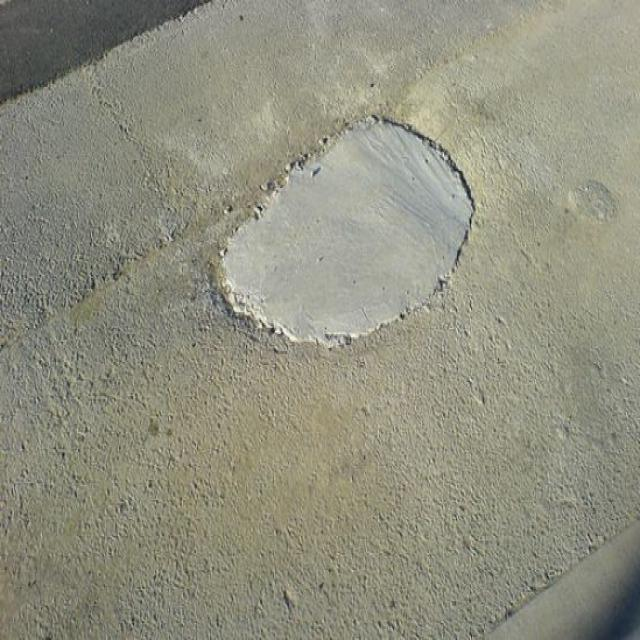Pothole: (208, 104, 482, 347)
